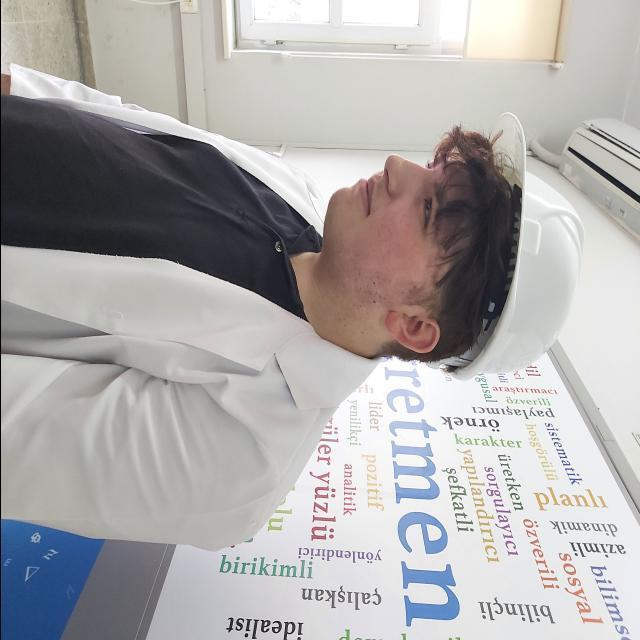helmet: (439, 112, 584, 378)
